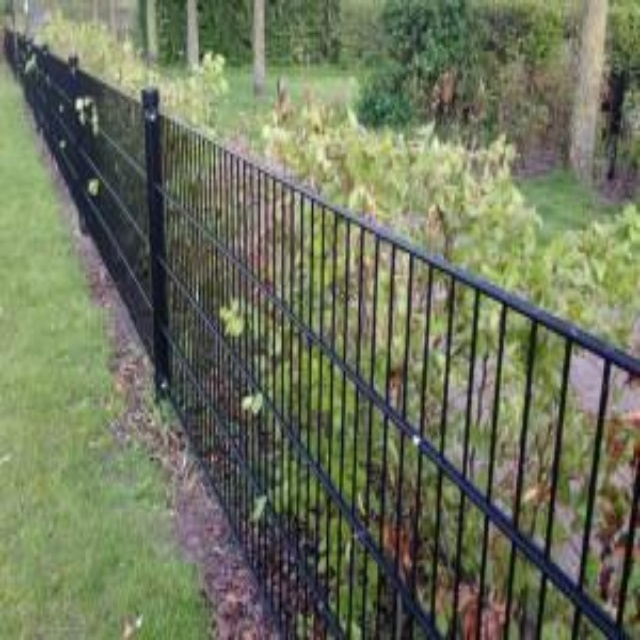obstacle: (0, 140, 640, 637)
